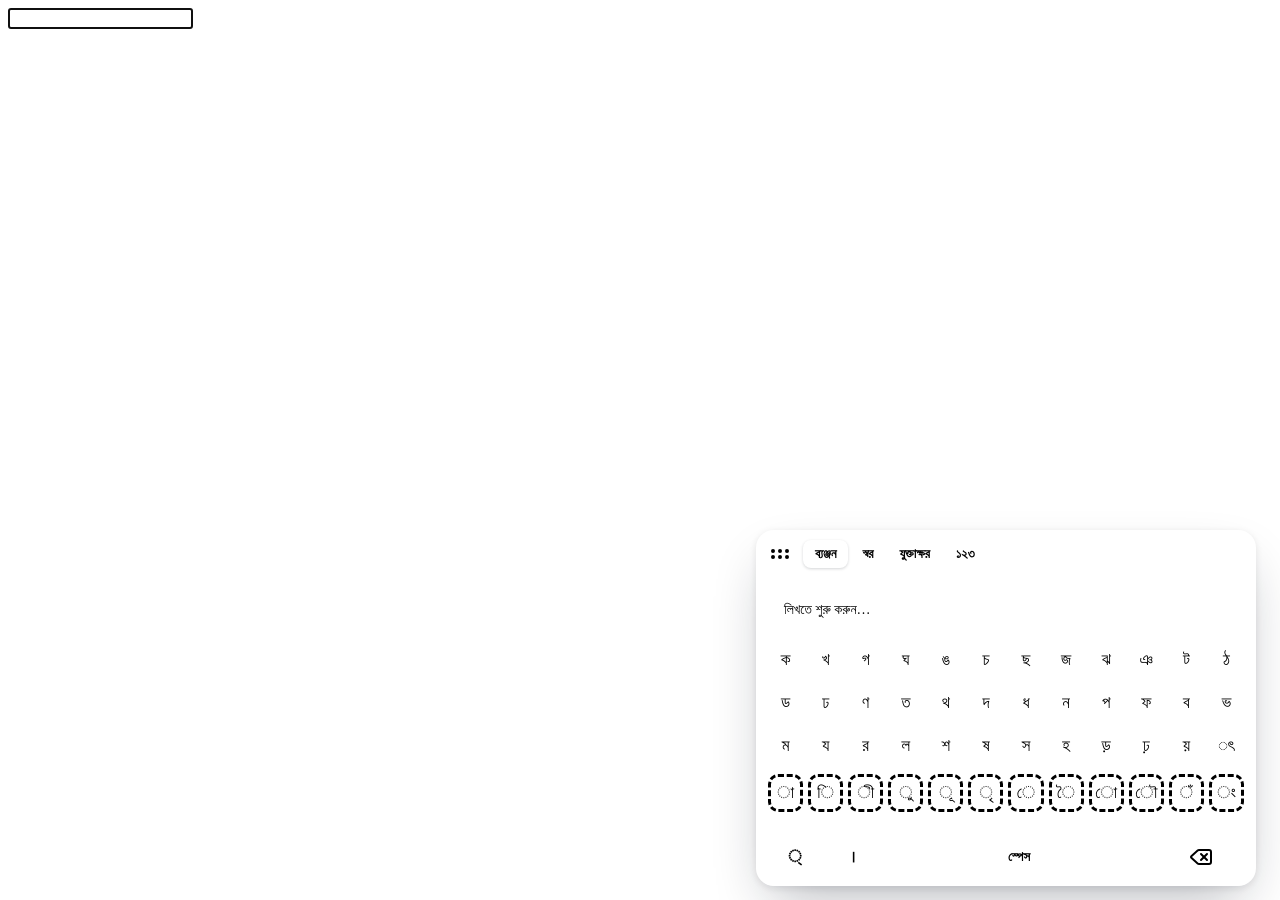
Test: BanglaKeyboard › types into an ordinary input that is not a BanglaField
This screenshot has width=1280, height=900.
Click the button "র" at (866, 746), box top-left (848, 726), bottom-right (883, 764)
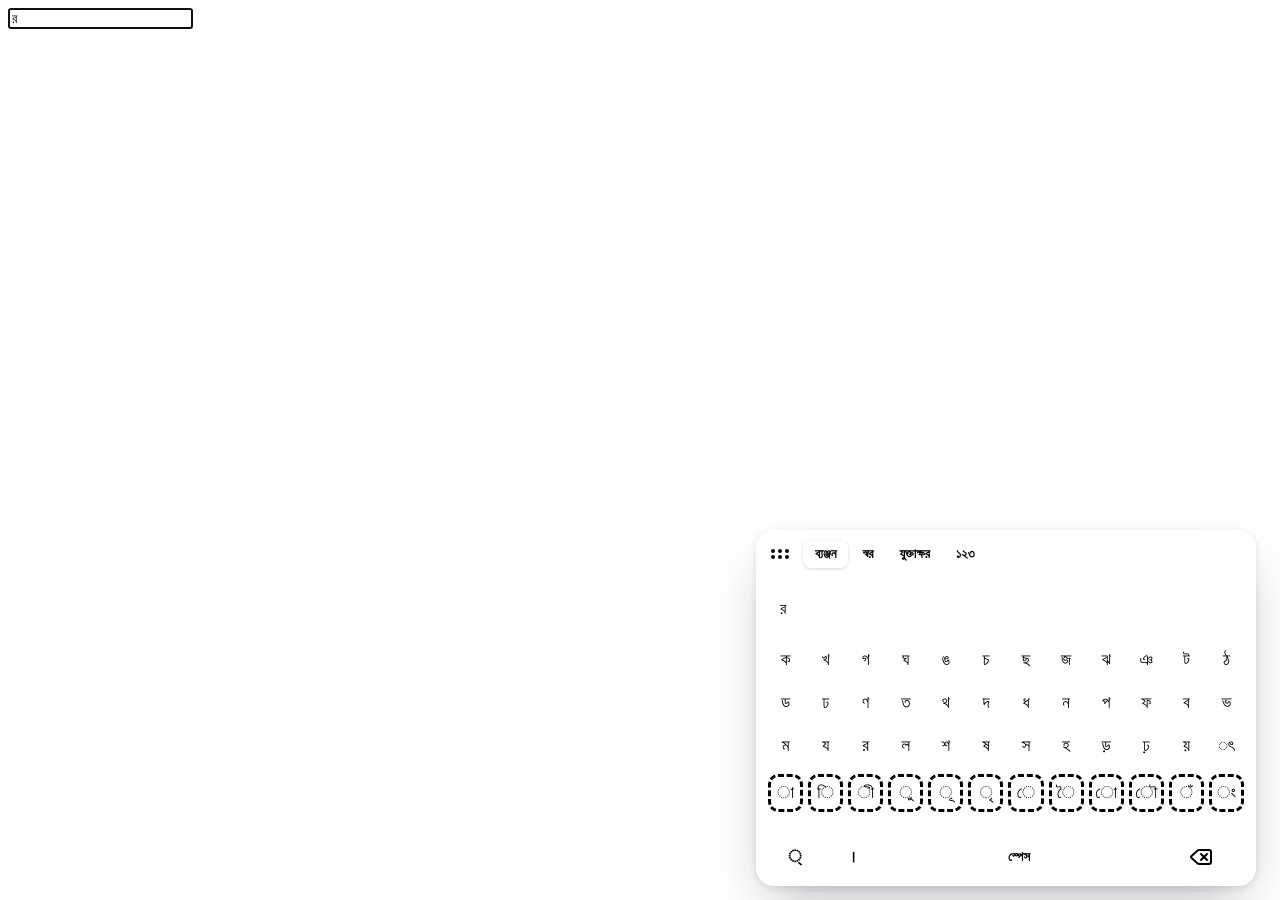
Click the button "◌া" at (786, 792), box top-left (768, 774), bottom-right (803, 812)
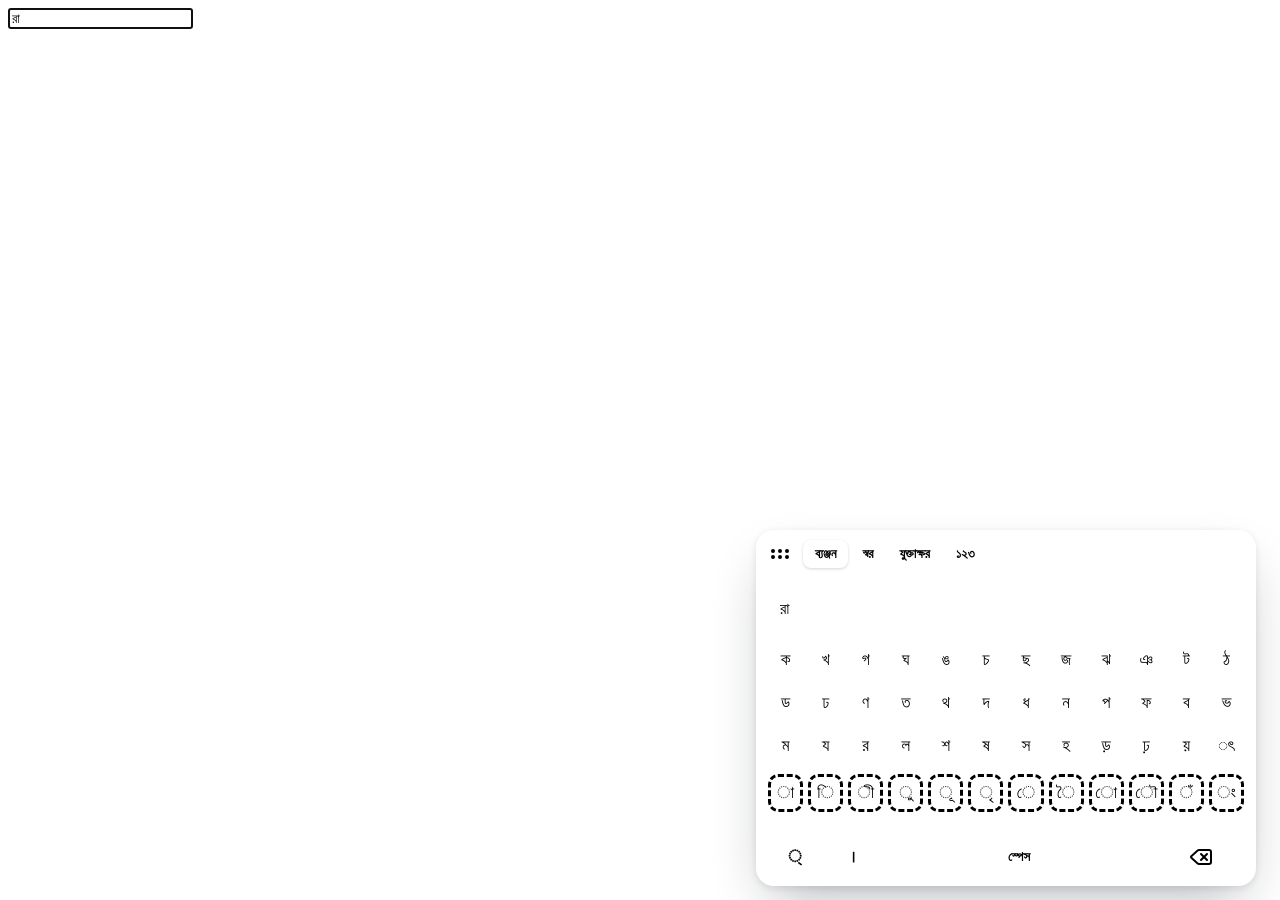
Click the button "ম" at (786, 746), box top-left (768, 726), bottom-right (803, 764)
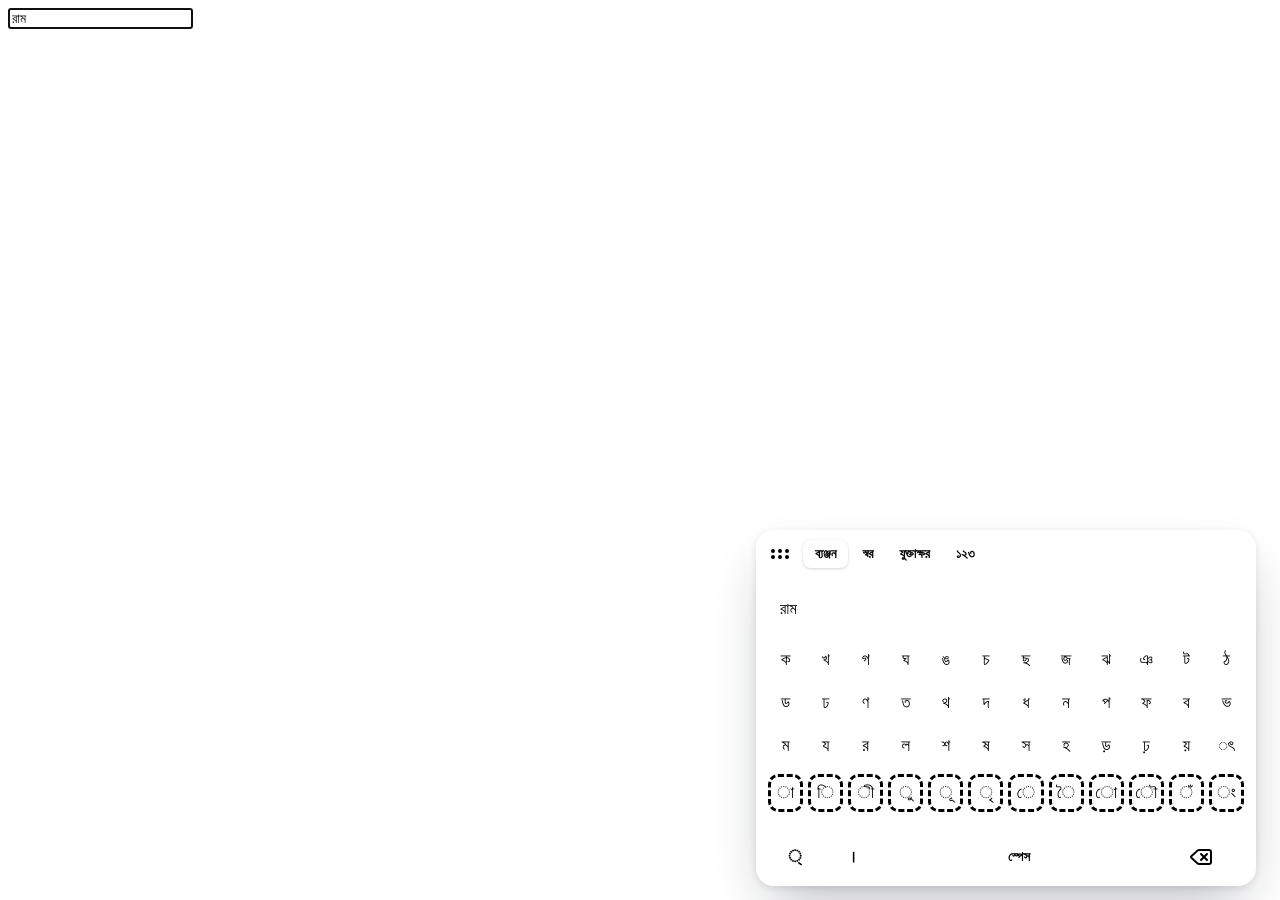
Now the field named "customer name" holds "রাম", box top-left (8, 8), bottom-right (193, 29)
Click the button named "Backspace" at (1201, 856), box top-left (1158, 838), bottom-right (1244, 876)
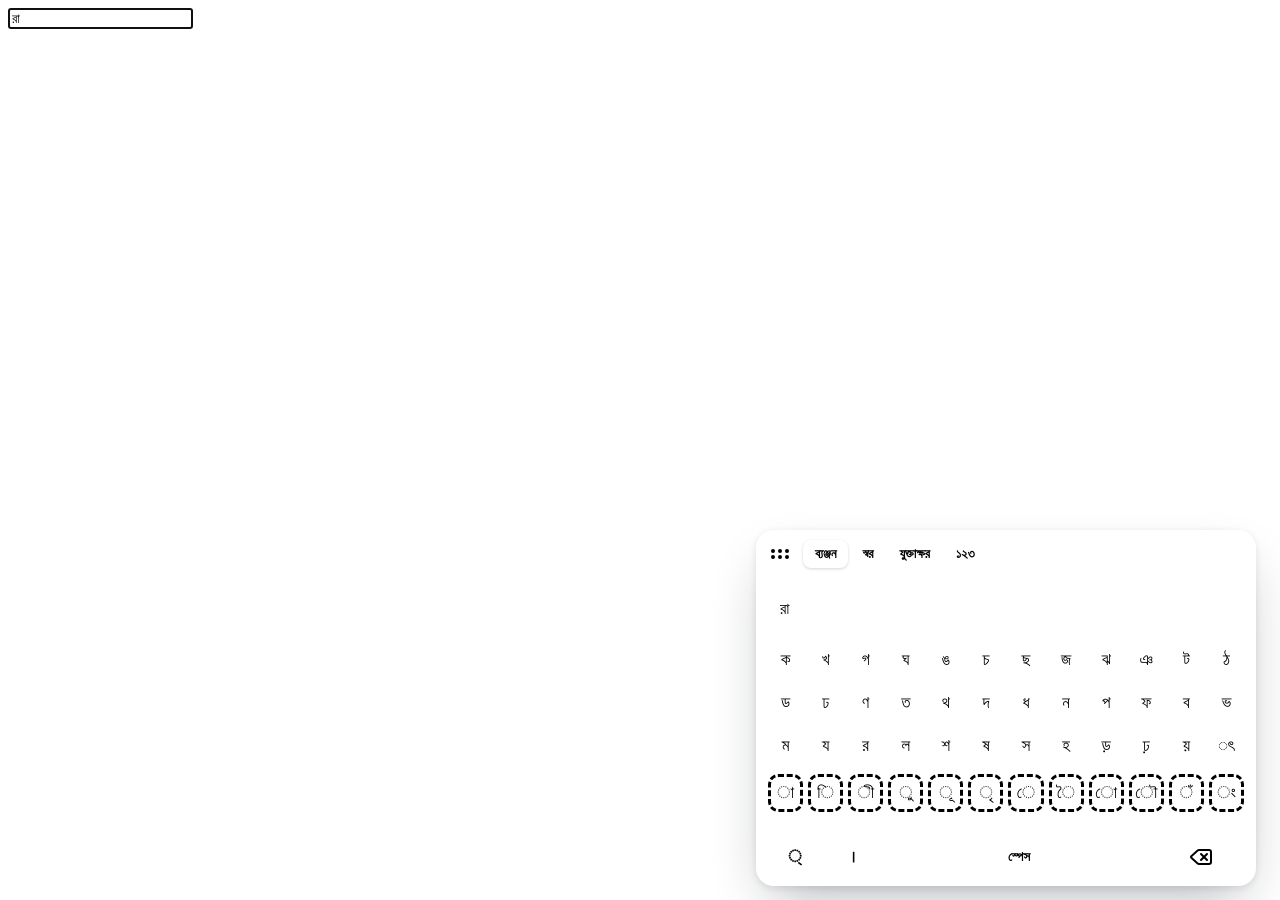
Now the field named "customer name" holds "রা", box top-left (8, 8), bottom-right (193, 29)
